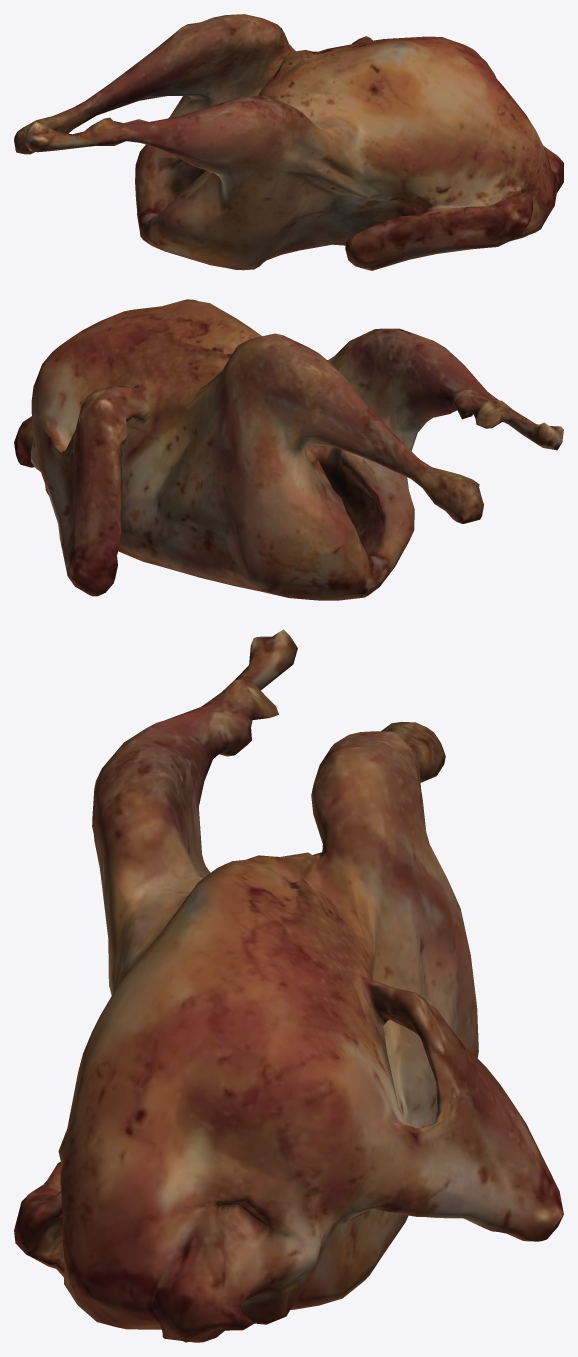
File: fowl_a.glb
3 renders of one model, top to bottom at view 1: azimuth 30°, elevation 25°; view 2: azimuth 150°, elevation 25°; view 3: azimuth 270°, elevation 25°, orthographic. The views are drawn at different scales.
Parts seen in each view (by area): view 1: wktnfbds_LOD0_TIER2_000; view 2: wktnfbds_LOD0_TIER2_000; view 3: wktnfbds_LOD0_TIER2_000.
Part boxes in pixels (<box>): wktnfbds_LOD0_TIER2_000: <box>14,14,563,270</box>; wktnfbds_LOD0_TIER2_000: <box>14,299,563,600</box>; wktnfbds_LOD0_TIER2_000: <box>14,629,563,1342</box>.
Size of the model in its own units: 0.1856 by 0.0804 by 0.0987.
Materials: 1 (1 with a texture image).
